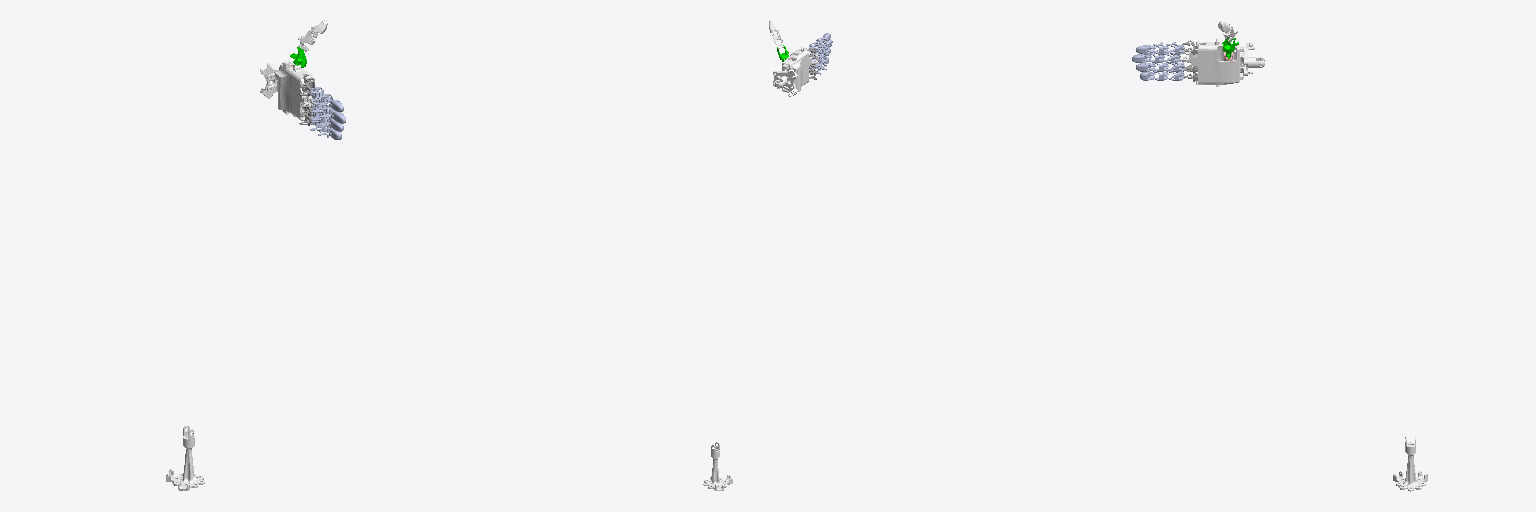
--- Facts derived from the render (not from the file) ---
The picture shows the robot from 3 angles, left to right: view 1: azimuth 30°, elevation 25°; view 2: azimuth 150°, elevation 25°; view 3: azimuth 270°, elevation 25°; orthographic projection.
Robot: hand_with_arm — 35 links, 34 joints (27 revolute, 7 fixed); root link world; default pose: all joints at 0.
Visible links, largest first — view 1: Palm, base_link; view 2: Palm, base_link; view 3: Palm, base_link.
Link boxes in pixels (x1,y1,x2,y2): Palm: [260, 61, 318, 122]; base_link: [166, 426, 204, 490]; Palm: [773, 47, 818, 96]; base_link: [703, 442, 732, 490]; Palm: [1178, 39, 1264, 86]; base_link: [1393, 436, 1427, 491].
Bounding box of the posed robot: 0.1153 × 0.6419 × 1.14 m (x, y, z).
Meshes: 33 distinct files referenced, 26 mesh visuals loaded (26 binary STL); not drawn: 7 (reference not matched to a file when rendering).

The robot description file, URDF, robot "hand_with_arm":
<?xml version="1.0" ?>
<!-- =================================================================================== -->
<!-- |    This document was autogenerated by xacro from combined.xacro                 | -->
<!-- |    EDITING THIS FILE BY HAND IS NOT RECOMMENDED                                 | -->
<!-- =================================================================================== -->
<robot name="hand_with_arm">
  <joint name="world_to_base_link" type="fixed">
    <parent link="world"/>
    <child link="base_link"/>
    <origin xyz="0 0 0" rpy="0 0 0"/>
  </joint>

  <link name="base_link">
    <inertial>
      <origin rpy="0 0 0" xyz="-1.4795E-13 0.0015384 0.020951"/>
      <mass value="0.83419"/>
      <inertia ixx="0.0014414" ixy="7.8809E-15" ixz="8.5328E-16" iyy="0.0013542" iyz="-1.4364E-05" izz="0.0024659"/>
    </inertial>
    <visual>
      <origin rpy="0 0 0" xyz="0 0 0"/>
      <geometry>
        <mesh filename="base_link.STL"/>
      </geometry>
      <material name="">
        <color rgba="1 1 1 1"/>
      </material>
    </visual>
    <collision>
      <origin rpy="0 0 0" xyz="0 0 0"/>
      <geometry>
        <mesh filename="base_link.STL"/>
      </geometry>
    </collision>
  </link>
  <link name="shoulder_Link">
    <inertial>
      <origin rpy="0 0 0" xyz="3.2508868974735E-07 0.00534955349296065 -0.00883689325611056"/>
      <mass value="1.57658348693929"/>
      <inertia ixx="0.0040640448663128" ixy="0" ixz="0" iyy="0.00392863238466817" iyz="-0.000160151642851425" izz="0.0030869857349184"/>
    </inertial>
    <visual>
      <origin rpy="0 0 0" xyz="0 0 0"/>
      <geometry>
        <mesh filename="shoulder_Link.STL"/>
      </geometry>
      <material name="">
        <color rgba="1 1 1 1"/>
      </material>
    </visual>
    <collision>
      <origin rpy="0 0 0" xyz="0 0 0"/>
      <geometry>
        <mesh filename="shoulder_Link.STL"/>
      </geometry>
    </collision>
  </link>
  <joint name="shoulder_joint" type="revolute">
    <origin rpy="0 0 3.1416" xyz="0 0 0.122"/>
    <parent link="base_link"/>
    <child link="shoulder_Link"/>
    <axis xyz="0 0 1"/>
    <limit effort="0" lower="-3.05" upper="3.05" velocity="0"/>
  </joint>
  <link name="upperArm_Link">
    <inertial>
      <origin rpy="0 0 0" xyz="0.203996646979614 2.01304585036544E-10 0.0127641545395984"/>
      <mass value="4.04175782265494"/>
      <inertia ixx="0.00965399211106204" ixy="0" ixz="0" iyy="0.144993869035655" iyz="0" izz="0.142607184038966"/>
    </inertial>
    <visual>
      <origin rpy="0 0 0" xyz="0 0 0"/>
      <geometry>
        <mesh filename="upperArm_Link.STL"/>
      </geometry>
      <material name="">
        <color rgba="1 1 1 1"/>
      </material>
    </visual>
    <collision>
      <origin rpy="0 0 0" xyz="0 0 0"/>
      <geometry>
        <mesh filename="upperArm_Link.STL"/>
      </geometry>
    </collision>
  </link>
  <joint name="upperArm_joint" type="revolute">
    <origin rpy="-1.5708 -1.5708 0" xyz="0 0.1215 0"/>
    <parent link="shoulder_Link"/>
    <child link="upperArm_Link"/>
    <axis xyz="0 0 1"/>
    <limit effort="0" lower="-3.05" upper="3.05" velocity="0"/>
  </joint>
  <link name="foreArm_Link">
    <inertial>
      <origin rpy="0 0 0" xyz="0.188922115560337 6.78882434739072E-07 0.0981026740461557"/>
      <mass value="2.27145669098343"/>
      <inertia ixx="0.00214322284946289" ixy="0" ixz="-0.00073120631553383" iyy="0.0443926090878205" iyz="0" izz="0.0441273797128365"/>
    </inertial>
    <visual>
      <origin rpy="0 0 0" xyz="0 0 0"/>
      <geometry>
        <mesh filename="foreArm_Link.STL"/>
      </geometry>
      <material name="">
        <color rgba="1 1 1 1"/>
      </material>
    </visual>
    <collision>
      <origin rpy="0 0 0" xyz="0 0 0"/>
      <geometry>
        <mesh filename="foreArm_Link.STL"/>
      </geometry>
    </collision>
  </link>
  <joint name="foreArm_joint" type="revolute">
    <origin rpy="-3.1416 -5.1632E-18 -5.459E-16" xyz="0.408 0 0"/>
    <parent link="upperArm_Link"/>
    <child link="foreArm_Link"/>
    <axis xyz="0 0 1"/>
    <limit effort="0" lower="-3.05" upper="3.05" velocity="0"/>
  </joint>
  <link name="wrist1_Link">
    <inertial>
      <origin rpy="0 0 0" xyz="7.54205137428592E-07 0.0062481254331257 -0.00392367464072373"/>
      <mass value="0.500477539188764"/>
      <inertia ixx="0.00071194605962081" ixy="0" ixz="0" iyy="0.00040588242872958" iyz="-2.30808694377512E-05" izz="0.000685574004861334"/>
    </inertial>
    <visual>
      <origin rpy="0 0 0" xyz="0 0 0"/>
      <geometry>
        <mesh filename="wrist1_Link.STL"/>
      </geometry>
      <material name="">
        <color rgba="1 1 1 1"/>
      </material>
    </visual>
    <collision>
      <origin rpy="0 0 0" xyz="0 0 0"/>
      <geometry>
        <mesh filename="wrist1_Link.STL"/>
      </geometry>
    </collision>
  </link>
  <joint name="wrist1_joint" type="revolute">
    <origin rpy="3.1416 -1.8323E-15 1.5708" xyz="0.376 0 0"/>
    <parent link="foreArm_Link"/>
    <child link="wrist1_Link"/>
    <axis xyz="0 0 1"/>
    <limit effort="0" lower="-3.05" upper="3.05" velocity="0"/>
  </joint>
  <link name="wrist2_Link">
    <inertial>
      <origin rpy="0 0 0" xyz="-7.54207620578635E-07 -0.00624812542617262 -0.00392367464115684"/>
      <mass value="0.500477539245988"/>
      <inertia ixx="0.00071194605981829" ixy="0" ixz="0" iyy="0.000405882428755442" iyz="2.30808694515886E-05" izz="0.000685574005112107"/>
    </inertial>
    <visual>
      <origin rpy="0 0 0" xyz="0 0 0"/>
      <geometry>
        <mesh filename="wrist2_Link.STL"/>
      </geometry>
      <material name="">
        <color rgba="1 1 1 1"/>
      </material>
    </visual>
    <collision>
      <origin rpy="0 0 0" xyz="0 0 0"/>
      <geometry>
        <mesh filename="wrist2_Link.STL"/>
      </geometry>
    </collision>
  </link>
  <joint name="wrist2_joint" type="revolute">
    <origin rpy="-1.5708 -1.8709E-15 -1.6653E-16" xyz="0 0.1025 0"/>
    <parent link="wrist1_Link"/>
    <child link="wrist2_Link"/>
    <axis xyz="0 0 1"/>
    <limit effort="0" lower="-3.05" upper="3.05" velocity="0"/>
  </joint>
  <link name="wrist3_Link">
    <inertial>
      <origin rpy="0 0 0" xyz="3.92048778449938E-10 0.000175788057281467 -0.0213294490706684"/>
      <mass value="0.158309554874285"/>
      <inertia ixx="7.31376196034769E-05" ixy="0" ixz="0" iyy="7.19528188876563E-05" iyz="0" izz="0.000108772439051422"/>
    </inertial>
    <visual>
      <origin rpy="0 0 0" xyz="0 0 0"/>
      <geometry>
        <mesh filename="wrist3_Link.STL"/>
      </geometry>
      <material name="">
        <color rgba="1 1 1 1"/>
      </material>
    </visual>
    <collision>
      <origin rpy="0 0 0" xyz="0 0 0"/>
      <geometry>
        <mesh filename="wrist3_Link.STL"/>
      </geometry>
    </collision>
  </link>
  <joint name="wrist3_joint" type="revolute">
    <origin rpy="1.5708 0 1.7907E-15" xyz="0 -0.094 0"/>
    <parent link="wrist2_Link"/>
    <child link="wrist3_Link"/>
    <axis xyz="0 0 1"/>
    <limit effort="0" lower="-3.05" upper="3.05" velocity="0"/>
  </joint>
  <link name="world"/>
  
  <link name="base_link_hand">
    <inertial>
      <origin rpy="0 0 0" xyz="0.00288917703400745 7.19298575992736E-08 0.0333943413697345"/>
      <mass value="0.0405673074248041"/>
      <inertia ixx="3.05405058204204E-05" ixy="-9.17701530382059E-12" ixz="-2.28215750329719E-06" iyy="2.99406334813428E-05" iyz="5.05819828519376E-11" izz="1.29896650650468E-05"/>
    </inertial>
    <visual>
      <origin rpy="0 0 0" xyz="0 0 0"/>
      <geometry>
        <mesh filename="base_link_hand.STL"/>
      </geometry>
      <material name="">
        <color rgba="1 1 1 1"/>
      </material>
    </visual>
    <collision>
      <origin rpy="0 0 0" xyz="0 0 0"/>
      <geometry>
        <mesh filename="base_link_hand.STL"/>
      </geometry>
    </collision>
  </link>
  <link name="Palm">
    <inertial>
      <origin rpy="0 0 0" xyz="-0.00100228247291861 0.0713109339067146 -0.00174502462719912"/>
      <mass value="0.120926471921812"/>
      <inertia ixx="0.000138610425454301" ixy="-4.62786158151152E-06" ixz="2.20807343346201E-06" iyy="0.000101897977536037" iyz="-2.30882115787054E-06" izz="0.000192936318502003"/>
    </inertial>
    <visual>
      <origin rpy="0 0 0" xyz="0 0 0"/>
      <geometry>
        <mesh filename="Palm.STL"/>
      </geometry>
      <material name="">
        <color rgba="1 1 1 1"/>
      </material>
    </visual>
    <collision>
      <origin rpy="0 0 0" xyz="0 0 0"/>
      <geometry>
        <mesh filename="Palm.STL"/>
      </geometry>
    </collision>
  </link>
  <link name="I_B_MCP">
    <inertial>
      <origin rpy="0 0 0" xyz="-0.000141741869560293 0.0074142743318362 0.00334888740628136"/>
      <mass value="0.00533430654578869"/>
      <inertia ixx="1.03059674811244E-06" ixy="2.85499977000514E-09" ixz="5.92073904839143E-09" iyy="6.30910052491092E-07" iyz="-3.26746504704581E-07" izz="8.35249912431195E-07"/>
    </inertial>
    <visual>
      <origin rpy="0 0 0" xyz="0 0 0"/>
      <geometry>
        <mesh filename="I_B_MCP.STL"/>
      </geometry>
      <material name="">
        <color rgba="0.698039215686274 0.698039215686274 0.698039215686274 1"/>
      </material>
    </visual>
    <collision>
      <origin rpy="0 0 0" xyz="0 0 0"/>
      <geometry>
        <mesh filename="I_B_MCP.STL"/>
      </geometry>
    </collision>
  </link>
  <joint name="Index_Below_MCP" type="revolute">
    <origin rpy="3.14159265358979 0 3.14159265358979" xyz="0.0314999999997207 0.140450000000007 0"/>
    <parent link="Palm"/>
    <child link="I_B_MCP"/>
    <axis xyz="0 0 1"/>
    <limit effort="0" lower="0" upper="0.4666" velocity="0"/>
  </joint>
  <link name="I_MCP">
    <inertial>
      <origin rpy="0 0 0" xyz="-1.74798426278155E-05 0.0124250684933012 0.0058426333833799"/>
      <mass value="0.00275593740944754"/>
      <inertia ixx="3.71397800153596E-07" ixy="-4.41719116223258E-11" ixz="5.12329061713431E-11" iyy="2.52621011381552E-07" iyz="4.71521203210919E-08" izz="3.66972791021968E-07"/>
    </inertial>
    <visual>
      <origin rpy="0 0 0" xyz="0 0 0"/>
      <geometry>
        <mesh filename="I_MCP.STL"/>
      </geometry>
      <material name="">
        <color rgba="0.796078431372549 0.823529411764706 0.937254901960784 1"/>
      </material>
    </visual>
    <collision>
      <origin rpy="0 0 0" xyz="0 0 0"/>
      <geometry>
        <mesh filename="I_MCP.STL"/>
      </geometry>
    </collision>
  </link>
  <joint name="Index_MCP" type="revolute">
    <origin rpy="3.14159265358979 0 3.14159265358979" xyz="0 0.0280000000000001 0.00795476324525228"/>
    <parent link="I_B_MCP"/>
    <child link="I_MCP"/>
    <axis xyz="-1 0 0"/>
    <limit effort="0" lower="-1.8002" upper="0" velocity="0"/>
  </joint>
  <link name="I_PIP">
    <inertial>
      <origin rpy="0 0 0" xyz="-1.89088826897318E-05 0.0102468342925393 0.00623016626774232"/>
      <mass value="0.00240650780281676"/>
      <inertia ixx="2.39240219965935E-07" ixy="-3.25872058619951E-11" ixz="3.63121382835939E-11" iyy="2.04216614716598E-07" iyz="3.40669686531923E-09" izz="2.34950639926256E-07"/>
    </inertial>
    <visual>
      <origin rpy="0 0 0" xyz="0 0 0"/>
      <geometry>
        <mesh filename="I_PIP.STL"/>
      </geometry>
      <material name="">
        <color rgba="0.796078431372549 0.823529411764706 0.937254901960784 1"/>
      </material>
    </visual>
    <collision>
      <origin rpy="0 0 0" xyz="0 0 0"/>
      <geometry>
        <mesh filename="I_PIP.STL"/>
      </geometry>
    </collision>
  </link>
  <joint name="Index_PIP" type="revolute">
    <origin rpy="0 0 0" xyz="0 0.0349845407392165 4.41133227610524E-05"/>
    <parent link="I_MCP"/>
    <child link="I_PIP"/>
    <axis xyz="-1 0 0"/>
    <limit effort="0" lower="-1.3104" upper="0" velocity="0"/>
  </joint>
  <link name="I_DIP">
    <inertial>
      <origin rpy="0 0 0" xyz="-1.79514642293377E-05 0.0186542949904827 0.00887453782729761"/>
      <mass value="0.00401062210067862"/>
      <inertia ixx="5.37383356206639E-07" ixy="-2.55982277048139E-10" ixz="-2.95024709322941E-11" iyy="2.03576113009439E-07" iyz="-6.20176632030851E-08" izz="5.63158597281292E-07"/>
    </inertial>
    <visual>
      <origin rpy="0 0 0" xyz="0 0 0"/>
      <geometry>
        <mesh filename="I_DIP.STL"/>
      </geometry>
      <material name="">
        <color rgba="0.796078431372549 0.823529411764706 0.937254901960784 1"/>
      </material>
    </visual>
    <collision>
      <origin rpy="0 0 0" xyz="0 0 0"/>
      <geometry>
        <mesh filename="I_DIP.STL"/>
      </geometry>
    </collision>
  </link>
  <joint name="Index_DIP" type="revolute">
    <origin rpy="0 0 0" xyz="0 0.0280000000000003 0"/>
    <parent link="I_PIP"/>
    <child link="I_DIP"/>
    <axis xyz="-1 0 0"/>
    <limit effort="0" lower="-1.1885" upper="0" velocity="0"/>
  </joint>
  <link name="I_DIP_Tip">
    <inertial>
      <origin rpy="0 0 0" xyz="-1.79511198905996E-05 -0.0208456920790837 -0.00112546160039845"/>
      <mass value="0.00401062518281372"/>
      <inertia ixx="5.37384300107463E-07" ixy="-2.55997853759538E-10" ixz="-2.95041885529222E-11" iyy="2.03576090196458E-07" iyz="-6.20177097517699E-08" izz="5.63159534023233E-07"/>
    </inertial>
    <visual>
      <origin rpy="0 0 0" xyz="0 0 0"/>
      <geometry>
        <mesh filename="I_DIP_Tip.STL"/>
      </geometry>
      <material name="">
        <color rgba="0.796078431372549 0.823529411764706 0.937254901960784 1"/>
      </material>
    </visual>
    <collision>
      <origin rpy="0 0 0" xyz="0 0 0"/>
      <geometry>
        <mesh filename="I_DIP_Tip.STL"/>
      </geometry>
    </collision>
  </link>
  <joint name="Index_DIP_Tip" type="fixed">
    <origin rpy="0 0 0" xyz="0 0.0394999999999937 0.00999999999992346"/>
    <parent link="I_DIP"/>
    <child link="I_DIP_Tip"/>
    <axis xyz="0 0 0"/>
  </joint>
  <link name="M_MCP">
    <inertial>
      <origin rpy="0 0 0" xyz="0.0101136051263437 0.0123174670813249 0.00573716287431845"/>
      <mass value="0.00272570618171821"/>
      <inertia ixx="3.60740313112994E-07" ixy="-4.98044373035369E-11" ixz="5.84099746234099E-11" iyy="2.49082011924943E-07" iyz="4.63135977780751E-08" izz="3.60045720563296E-07"/>
    </inertial>
    <visual>
      <origin rpy="0 0 0" xyz="0 0 0"/>
      <geometry>
        <mesh filename="M_MCP.STL"/>
      </geometry>
      <material name="">
        <color rgba="0.796078431372549 0.823529411764706 0.937254901960784 1"/>
      </material>
    </visual>
    <collision>
      <origin rpy="0 0 0" xyz="0 0 0"/>
      <geometry>
        <mesh filename="M_MCP.STL"/>
      </geometry>
    </collision>
  </link>
  <joint name="Middle_MCP" type="revolute">
    <origin rpy="0 0 0" xyz="0.000368685087286369 0.177450000000007 -0.00795178552457043"/>
    <parent link="Palm"/>
    <child link="M_MCP"/>
    <axis xyz="-1 0 0"/>
    <limit effort="0" lower="-1.7791" upper="0" velocity="0"/>
  </joint>
  <link name="M_PIP">
    <inertial>
      <origin rpy="0 0 0" xyz="0.0101119553037649 0.010252203532493 0.00631460697183711"/>
      <mass value="0.00237659295556983"/>
      <inertia ixx="2.36204818756337E-07" ixy="1.76280077969291E-12" ixz="3.6770946859238E-11" iyy="2.02624438695474E-07" iyz="3.74104602859201E-09" izz="2.28946207305512E-07"/>
    </inertial>
    <visual>
      <origin rpy="0 0 0" xyz="0 0 0"/>
      <geometry>
        <mesh filename="M_PIP.STL"/>
      </geometry>
      <material name="">
        <color rgba="0.792156862745098 0.819607843137255 0.933333333333333 1"/>
      </material>
    </visual>
    <collision>
      <origin rpy="0 0 0" xyz="0 0 0"/>
      <geometry>
        <mesh filename="M_PIP.STL"/>
      </geometry>
    </collision>
  </link>
  <joint name="Middle_PIP" type="revolute">
    <origin rpy="0 0 0" xyz="0 0.0349845407392164 4.41133227957469E-05"/>
    <parent link="M_MCP"/>
    <child link="M_PIP"/>
    <axis xyz="-1 0 0"/>
    <limit effort="0" lower="-1.2823" upper="0" velocity="0"/>
  </joint>
  <link name="M_DIP">
    <inertial>
      <origin rpy="0 0 0" xyz="0.00959086211352167 0.0186497160542034 0.0088256380117765"/>
      <mass value="0.00393985712726044"/>
      <inertia ixx="5.33501047208565E-07" ixy="-2.54142134600127E-10" ixz="-2.39215092139354E-11" iyy="2.021617042524E-07" iyz="-6.16508472153486E-08" izz="5.59715605803219E-07"/>
    </inertial>
    <visual>
      <origin rpy="0 0 0" xyz="0 0 0"/>
      <geometry>
        <mesh filename="M_DIP.STL"/>
      </geometry>
      <material name="">
        <color rgba="0.796078431372549 0.823529411764706 0.937254901960784 1"/>
      </material>
    </visual>
    <collision>
      <origin rpy="0 0 0" xyz="0 0 0"/>
      <geometry>
        <mesh filename="M_DIP.STL"/>
      </geometry>
    </collision>
  </link>
  <joint name="Middle_DIP" type="revolute">
    <origin rpy="0 0 0" xyz="0.000522164976606988 0.0280000000000001 0"/>
    <parent link="M_PIP"/>
    <child link="M_DIP"/>
    <axis xyz="-1 0 0"/>
    <limit effort="0" lower="-1.275" upper="0" velocity="0"/>
  </joint>
  <link name="M_DIP_Tip">
    <inertial>
      <origin rpy="0 0 0" xyz="-1.82883264406922E-05 -0.0208502708482803 -0.00117436108513081"/>
      <mass value="0.00393986040390953"/>
      <inertia ixx="5.33501938359617E-07" ixy="-2.54105674461358E-10" ixz="-2.39229374183927E-11" iyy="2.02161687109717E-07" iyz="-6.16509173250593E-08" izz="5.59716482402493E-07"/>
    </inertial>
    <visual>
      <origin rpy="0 0 0" xyz="0 0 0"/>
      <geometry>
        <mesh filename="M_DIP_Tip.STL"/>
      </geometry>
      <material name="">
        <color rgba="0.796078431372549 0.823529411764706 0.937254901960784 1"/>
      </material>
    </visual>
    <collision>
      <origin rpy="0 0 0" xyz="0 0 0"/>
      <geometry>
        <mesh filename="M_DIP_Tip.STL"/>
      </geometry>
    </collision>
  </link>
  <joint name="Middle_DIP_Tip" type="fixed">
    <origin rpy="0 0 0" xyz="0.00960914993574263 0.0394999999999935 0.00999999999987842"/>
    <parent link="M_DIP"/>
    <child link="M_DIP_Tip"/>
    <axis xyz="0 0 0"/>
  </joint>
  <link name="R_B_MCP">
    <inertial>
      <origin rpy="0 0 0" xyz="0.000141400022333087 0.00748571390330743 -0.00336921468308588"/>
      <mass value="0.00533806254719223"/>
      <inertia ixx="1.0353483169865E-06" ixy="-2.71242837104229E-09" ixz="5.52800342769745E-09" iyy="6.29683236201212E-07" iyz="3.28505949538031E-07" izz="8.39889436289043E-07"/>
    </inertial>
    <visual>
      <origin rpy="0 0 0" xyz="0 0 0"/>
      <geometry>
        <mesh filename="R_B_MCP.STL"/>
      </geometry>
      <material name="">
        <color rgba="0.698039215686274 0.698039215686274 0.698039215686274 1"/>
      </material>
    </visual>
    <collision>
      <origin rpy="0 0 0" xyz="0 0 0"/>
      <geometry>
        <mesh filename="R_B_MCP.STL"/>
      </geometry>
    </collision>
  </link>
  <joint name="Ring_Below_MCP" type="revolute">
    <origin rpy="0 0 0" xyz="-0.0105000000003218 0.140450000000007 0"/>
    <parent link="Palm"/>
    <child link="R_B_MCP"/>
    <axis xyz="0 0 1"/>
    <limit effort="0" lower="0" upper="0.4666" velocity="0"/>
  </joint>
  <link name="R_MCP">
    <inertial>
      <origin rpy="0 0 0" xyz="-1.81900103362071E-05 0.0123593679217145 0.00587054972046028"/>
      <mass value="0.00276771907047308"/>
      <inertia ixx="3.6293319421358E-07" ixy="-2.60044174910396E-11" ixz="4.37098756345083E-11" iyy="2.51940196800613E-07" iyz="4.48500665923026E-08" izz="3.63178593785227E-07"/>
    </inertial>
    <visual>
      <origin rpy="0 0 0" xyz="0 0 0"/>
      <geometry>
        <mesh filename="R_MCP.STL"/>
      </geometry>
      <material name="">
        <color rgba="0.796078431372549 0.823529411764706 0.937254901960784 1"/>
      </material>
    </visual>
    <collision>
      <origin rpy="0 0 0" xyz="0 0 0"/>
      <geometry>
        <mesh filename="R_MCP.STL"/>
      </geometry>
    </collision>
  </link>
  <joint name="Ring_MCP" type="revolute">
    <origin rpy="0 0 0" xyz="0 0.0280000000000001 -0.00795476324525061"/>
    <parent link="R_B_MCP"/>
    <child link="R_MCP"/>
    <axis xyz="-1 0 0"/>
    <limit effort="0" lower="-1.7553" upper="0" velocity="0"/>
  </joint>
  <link name="R_PIP">
    <inertial>
      <origin rpy="0 0 0" xyz="-1.80413738349317E-05 0.0102929994545149 0.00630507414295918"/>
      <mass value="0.00238434024010653"/>
      <inertia ixx="2.36356872842794E-07" ixy="-6.39117308852323E-12" ixz="1.54530706119539E-11" iyy="2.03192454048864E-07" iyz="3.38662038008827E-09" izz="2.30526732864084E-07"/>
    </inertial>
    <visual>
      <origin rpy="0 0 0" xyz="0 0 0"/>
      <geometry>
        <mesh filename="R_PIP.STL"/>
      </geometry>
      <material name="">
        <color rgba="0.796078431372549 0.823529411764706 0.937254901960784 1"/>
      </material>
    </visual>
    <collision>
      <origin rpy="0 0 0" xyz="0 0 0"/>
      <geometry>
        <mesh filename="R_PIP.STL"/>
      </geometry>
    </collision>
  </link>
  <joint name="Ring_PIP" type="revolute">
    <origin rpy="0 0 0" xyz="0 0.0349845407392165 4.41133228030188E-05"/>
    <parent link="R_MCP"/>
    <child link="R_PIP"/>
    <axis xyz="-1 0 0"/>
    <limit effort="0" lower="-1.273" upper="0" velocity="0"/>
  </joint>
  <link name="R_DIP">
    <inertial>
      <origin rpy="0 0 0" xyz="-1.83063200351503E-05 0.0186629542830772 0.00880902120918689"/>
      <mass value="0.00392874530194357"/>
      <inertia ixx="5.33045587126399E-07" ixy="-2.55761115191706E-10" ixz="-2.41673457656617E-11" iyy="2.01758989610719E-07" iyz="-6.18614962583378E-08" izz="5.59544610351373E-07"/>
    </inertial>
    <visual>
      <origin rpy="0 0 0" xyz="0 0 0"/>
      <geometry>
        <mesh filename="R_DIP.STL"/>
      </geometry>
      <material name="">
        <color rgba="0.796078431372549 0.823529411764706 0.937254901960784 1"/>
      </material>
    </visual>
    <collision>
      <origin rpy="0 0 0" xyz="0 0 0"/>
      <geometry>
        <mesh filename="R_DIP.STL"/>
      </geometry>
    </collision>
  </link>
  <joint name="Ring_DIP" type="revolute">
    <origin rpy="0 0 0" xyz="0 0.0280000000000001 0"/>
    <parent link="R_PIP"/>
    <child link="R_DIP"/>
    <axis xyz="-1 0 0"/>
    <limit effort="0" lower="-1.2842" upper="0" velocity="0"/>
  </joint>
  <link name="R_DIP_Tip">
    <inertial>
      <origin rpy="0 0 0" xyz="-1.83070900889835E-05 -0.0208370357672115 -0.00119097963723128"/>
      <mass value="0.00392874776267662"/>
      <inertia ixx="5.33046262768438E-07" ixy="-2.55706763585683E-10" ixz="-2.41593657796156E-11" iyy="2.01758966180991E-07" iyz="-6.18614331450794E-08" izz="5.59545275993907E-07"/>
    </inertial>
    <visual>
      <origin rpy="0 0 0" xyz="0 0 0"/>
      <geometry>
        <mesh filename="R_DIP_Tip.STL"/>
      </geometry>
      <material name="">
        <color rgba="0.796078431372549 0.823529411764706 0.937254901960784 1"/>
      </material>
    </visual>
    <collision>
      <origin rpy="0 0 0" xyz="0 0 0"/>
      <geometry>
        <mesh filename="R_DIP_Tip.STL"/>
      </geometry>
    </collision>
  </link>
  <joint name="Ring_DIP_Tip" type="fixed">
    <origin rpy="0 0 0" xyz="0 0.0394999999999934 0.010000000000021"/>
    <parent link="R_DIP"/>
    <child link="R_DIP_Tip"/>
    <axis xyz="0 0 0"/>
  </joint>
  <link name="P_B_MCP">
    <inertial>
      <origin rpy="0 0 0" xyz="-0.00016822714604979 0.00805589897466968 -0.00365488797406816"/>
      <mass value="0.00512816464445928"/>
      <inertia ixx="9.99698557475322E-07" ixy="-2.1827834732298E-08" ixz="1.56085772722901E-08" iyy="6.10313699095437E-07" iyz="3.14479371654659E-07" izz="7.98354669674153E-07"/>
    </inertial>
    <visual>
      <origin rpy="0 0 0" xyz="0 0 0"/>
      <geometry>
        <mesh filename="P_B_MCP.STL"/>
      </geometry>
      <material name="">
        <color rgba="0.698039215686274 0.698039215686274 0.698039215686274 1"/>
      </material>
    </visual>
    <collision>
      <origin rpy="0 0 0" xyz="0 0 0"/>
      <geometry>
        <mesh filename="P_B_MCP.STL"/>
      </geometry>
    </collision>
  </link>
  <joint name="Pinky_Below_MCP" type="revolute">
    <origin rpy="0 0 0" xyz="-0.0315000000003377 0.140450000000008 0"/>
    <parent link="Palm"/>
    <child link="P_B_MCP"/>
    <axis xyz="0 0 1"/>
    <limit effort="0" lower="0" upper="0.6872" velocity="0"/>
  </joint>
  <link name="P_MCP">
    <inertial>
      <origin rpy="0 0 0" xyz="-1.75508168624786E-05 0.0123862716758279 0.00586908713083029"/>
      <mass value="0.0027527409670799"/>
      <inertia ixx="3.66134185519609E-07" ixy="-5.23805936563049E-11" ixz="5.22078287918388E-11" iyy="2.51982271717664E-07" iyz="4.56227552560376E-08" izz="3.63835231591852E-07"/>
    </inertial>
    <visual>
      <origin rpy="0 0 0" xyz="0 0 0"/>
      <geometry>
        <mesh filename="P_MCP.STL"/>
      </geometry>
      <material name="">
        <color rgba="0.796078431372549 0.823529411764706 0.937254901960784 1"/>
      </material>
    </visual>
    <collision>
      <origin rpy="0 0 0" xyz="0 0 0"/>
      <geometry>
        <mesh filename="P_MCP.STL"/>
      </geometry>
    </collision>
  </link>
  <joint name="Pinky_MCP" type="revolute">
    <origin rpy="0 0 0" xyz="0 0.028 -0.00795476324526755"/>
    <parent link="P_B_MCP"/>
    <child link="P_MCP"/>
    <axis xyz="-1 0 0"/>
    <limit effort="0" lower="-1.7269" upper="0" velocity="0"/>
  </joint>
  <link name="P_PIP">
    <inertial>
      <origin rpy="0 0 0" xyz="-1.72400883345983E-05 0.0103223722971154 0.00635348178219377"/>
      <mass value="0.0023789537359218"/>
      <inertia ixx="2.36329510859284E-07" ixy="1.94423826737988E-11" ixz="6.59154956290154E-11" iyy="2.03127917135172E-07" iyz="3.65773511125615E-09" izz="2.30951832349696E-07"/>
    </inertial>
    <visual>
      <origin rpy="0 0 0" xyz="0 0 0"/>
      <geometry>
        <mesh filename="P_PIP.STL"/>
      </geometry>
      <material name="">
        <color rgba="0.796078431372549 0.823529411764706 0.937254901960784 1"/>
      </material>
    </visual>
    <collision>
      <origin rpy="0 0 0" xyz="0 0 0"/>
      <geometry>
        <mesh filename="P_PIP.STL"/>
      </geometry>
    </collision>
  </link>
  <joint name="Pinky_PIP" type="revolute">
    <origin rpy="0 0 0" xyz="0 0.0349845407392164 4.41133227925272E-05"/>
    <parent link="P_MCP"/>
    <child link="P_PIP"/>
    <axis xyz="-1 0 0"/>
    <limit effort="0" lower="-1.2573" upper="0" velocity="0"/>
  </joint>
  <link name="P_DIP">
    <inertial>
      <origin rpy="0 0 0" xyz="-2.31261467509292E-05 0.0152163388924308 0.00857258033935445"/>
      <mass value="0.00310861773436295"/>
      <inertia ixx="3.022016992443E-07" ixy="-7.85953119521502E-12" ixz="-7.08752879404416E-12" iyy="1.56377778235913E-07" iyz="-4.50241177337849E-08" izz="3.21156101863139E-07"/>
    </inertial>
    <visual>
      <origin rpy="0 0 0" xyz="0 0 0"/>
      <geometry>
        <mesh filename="P_DIP.STL"/>
      </geometry>
      <material name="">
        <color rgba="0.796078431372549 0.823529411764706 0.937254901960784 1"/>
      </material>
    </visual>
    <collision>
      <origin rpy="0 0 0" xyz="0 0 0"/>
      <geometry>
        <mesh filename="P_DIP.STL"/>
      </geometry>
    </collision>
  </link>
  <joint name="Pinky_DIP" type="revolute">
    <origin rpy="0 0 0" xyz="0 0.028 0"/>
    <parent link="P_PIP"/>
    <child link="P_DIP"/>
    <axis xyz="-1 0 0"/>
    <limit effort="0" lower="-1.2577" upper="0" velocity="0"/>
  </joint>
  <link name="P_DIP_Tip">
    <inertial>
      <origin rpy="0 0 0" xyz="-2.31260801152391E-05 -0.0152836637237333 -0.00142741970512751"/>
      <mass value="0.00310861698058435"/>
      <inertia ixx="3.02201602388332E-07" ixy="-7.86299305832725E-12" ixz="-7.08594985067307E-12" iyy="1.56377785358377E-07" iyz="-4.50241170067936E-08" izz="3.21156006007108E-07"/>
    </inertial>
    <visual>
      <origin rpy="0 0 0" xyz="0 0 0"/>
      <geometry>
        <mesh filename="P_DIP_Tip.STL"/>
      </geometry>
      <material name="">
        <color rgba="0.796078431372549 0.823529411764706 0.937254901960784 1"/>
      </material>
    </visual>
    <collision>
      <origin rpy="0 0 0" xyz="0 0 0"/>
      <geometry>
        <mesh filename="P_DIP_Tip.STL"/>
      </geometry>
    </collision>
  </link>
  <joint name="Pinky_DIP_Tip" type="fixed">
    <origin rpy="0 0 0" xyz="0 0.0304999999999933 0.0100000000000567"/>
    <parent link="P_DIP"/>
    <child link="P_DIP_Tip"/>
    <axis xyz="0 0 0"/>
  </joint>
  <link name="T_P_S">
    <inertial>
      <origin rpy="0 0 0" xyz="-0.00133532824825168 0.000120665991595326 0.000406645795163037"/>
      <mass value="0.0104013413375586"/>
      <inertia ixx="5.42061188311911E-07" ixy="2.5306807659414E-08" ixz="-9.78380508419395E-08" iyy="3.50375398539094E-06" iyz="-7.00108296291377E-10" izz="3.27135341594506E-06"/>
    </inertial>
    <visual>
      <origin rpy="0 0 0" xyz="0 0 0"/>
      <geometry>
        <mesh filename="T_P_S.STL"/>
      </geometry>
      <material name="">
        <color rgba="1 0.752941176470588 0.752941176470588 1"/>
      </material>
    </visual>
    <collision>
      <origin rpy="0 0 0" xyz="0 0 0"/>
      <geometry>
        <mesh filename="T_P_S.STL"/>
      </geometry>
    </collision>
  </link>
  <joint name="Thumb_Pro_Supination" type="revolute">
    <origin rpy="0 0 0" xyz="0 0.0700500000000081 0.00254523675472768"/>
    <parent link="Palm"/>
    <child link="T_P_S"/>
    <axis xyz="1 0 0"/>
    <limit effort="0" lower="-0.6363" upper="0.6363" velocity="0"/>
  </joint>
  <link name="T_CMC">
    <inertial>
      <origin rpy="0 0 0" xyz="0.00168374953213787 9.82021480901013E-05 0.0218902393318586"/>
      <mass value="0.0056356338651766"/>
      <inertia ixx="1.26829163436478E-06" ixy="1.05367080871463E-08" ixz="-1.62375355325856E-07" iyy="1.22011213798707E-06" iyz="-2.03542243169219E-08" izz="5.81959418465577E-07"/>
    </inertial>
    <visual>
      <origin rpy="0 0 0" xyz="0 0 0"/>
      <geometry>
        <mesh filename="T_CMC.STL"/>
      </geometry>
      <material name="">
        <color rgba="0 1 0 1"/>
      </material>
    </visual>
    <collision>
      <origin rpy="0 0 0" xyz="0 0 0"/>
      <geometry>
        <mesh filename="T_CMC.STL"/>
      </geometry>
    </collision>
  </link>
  <joint name="Thumb_CMC" type="revolute">
    <origin rpy="-1.07907624681628 0.636866640194575 -1.26244557315784" xyz="0.0241199999998295 0 0.0115599999996668"/>
    <parent link="T_P_S"/>
    <child link="T_CMC"/>
    <axis xyz="0.76604444311898 -0.642787609686537 0"/>
    <limit effort="0" lower="0" upper="1.8545" velocity="0"/>
  </joint>
  <link name="T_MCP">
    <inertial>
      <origin rpy="0 0 0" xyz="-0.00410352367274976 -0.0188546486561465 -0.000135076165763207"/>
      <mass value="0.00332373832910088"/>
      <inertia ixx="5.47690075970923E-07" ixy="-3.0661509593922E-08" ixz="1.57099424813818E-10" iyy="3.25193587156607E-07" iyz="4.33023893224048E-11" izz="5.3410848735595E-07"/>
    </inertial>
    <visual>
      <origin rpy="0 0 0" xyz="0 0 0"/>
      <geometry>
        <mesh filename="T_MCP.STL"/>
      </geometry>
      <material name="">
        <color rgba="1 1 1 1"/>
      </material>
    </visual>
    <collision>
      <origin rpy="0 0 0" xyz="0 0 0"/>
      <geometry>
        <mesh filename="T_MCP.STL"/>
      </geometry>
    </collision>
  </link>
  <joint name="Thumb_MCP" type="revolute">
    <origin rpy="-1.5707963267949 -0.240680903850004 0" xyz="0.0106391616042632 0 0.0519999941010939"/>
    <parent link="T_CMC"/>
    <child link="T_MCP"/>
    <axis xyz="0 0 1"/>
    <limit effort="0" lower="-1.3527" upper="0" velocity="0"/>
  </joint>
  <link name="T_IP">
    <inertial>
      <origin rpy="0 0 0" xyz="-0.00960947729713725 -0.000136820949692695 0.0166952338081086"/>
      <mass value="0.00421936396456514"/>
      <inertia ixx="5.7343758975226E-07" ixy="-2.42228731253459E-10" ixz="1.0905764708893E-07" iyy="5.79569688739935E-07" iyz="1.39216154169752E-10" izz="3.12842620211569E-07"/>
    </inertial>
    <visual>
      <origin rpy="0 0 0" xyz="0 0 0"/>
      <geometry>
        <mesh filename="T_IP.STL"/>
      </geometry>
      <material name="">
        <color rgba="1 1 1 1"/>
      </material>
    </visual>
    <collision>
      <origin rpy="0 0 0" xyz="0 0 0"/>
      <geometry>
        <mesh filename="T_IP.STL"/>
      </geometry>
    </collision>
  </link>
  <joint name="Thumb_IP" type="revolute">
    <origin rpy="1.5707963267949 0 -0.0694641042293598" xyz="0 -0.0399999999999966 0"/>
    <parent link="T_MCP"/>
    <child link="T_IP"/>
    <axis xyz="0 1 0"/>
    <limit effort="0" lower="-0.56343" upper="0" velocity="0"/>
  </joint>
  <link name="T_IP_Tip">
    <inertial>
      <origin rpy="0 0 0" xyz="0.00733993695116229 6.49316572202963E-06 -0.0155735597915196"/>
      <mass value="0.00421936396456506"/>
      <inertia ixx="5.73437589752248E-07" ixy="-2.42228731254412E-10" ixz="1.09057647088929E-07" iyy="5.79569688739923E-07" iyz="1.3921615417177E-10" izz="3.12842620211567E-07"/>
    </inertial>
    <visual>
      <origin rpy="0 0 0" xyz="0 0 0"/>
      <geometry>
        <mesh filename="T_IP_Tip.STL"/>
      </geometry>
      <material name="">
        <color rgba="1 1 1 1"/>
      </material>
    </visual>
    <collision>
      <origin rpy="0 0 0" xyz="0 0 0"/>
      <geometry>
        <mesh filename="T_IP_Tip.STL"/>
      </geometry>
    </collision>
  </link>
  <joint name="Thumb_IP_Tip" type="fixed">
    <origin rpy="0 0 0" xyz="-0.016949414248298 -0.000143314115411422 0.0322687935996243"/>
    <parent link="T_IP"/>
    <child link="T_IP_Tip"/>
    <axis xyz="0 0 0"/>
  </joint>
  <link name="palm_intermediate_link"/>
  <joint name="Wrist_Flex_Extension" type="revolute">
    <parent link="base_link_hand"/>
    <child link="palm_intermediate_link"/>
    <origin rpy="1.5707963267949 0 1.5707963267949" xyz="0.00633660798242791 0 0.108612"/>
    <axis xyz="1 0 0"/>
    <limit effort="1" lower="-0.907" upper="0.907" velocity="1"/>
  </joint>
  <joint name="Wrist_RUD" type="revolute">
    <parent link="palm_intermediate_link"/>
    <child link="Palm"/>
    <origin rpy="0 0 0" xyz="0 0 0"/>
    <axis xyz="0 0 1"/>
    <limit effort="1" lower="-0.314" upper="0.314" velocity="1"/>
  </joint>
  
  
  <joint name="connect" type="fixed">
    <parent link="wrist3_Link"/>
    <child link="base_link_hand"/>
    <origin rpy="0 0 0" xyz="0 0 0"/>
  </joint>
</robot>
